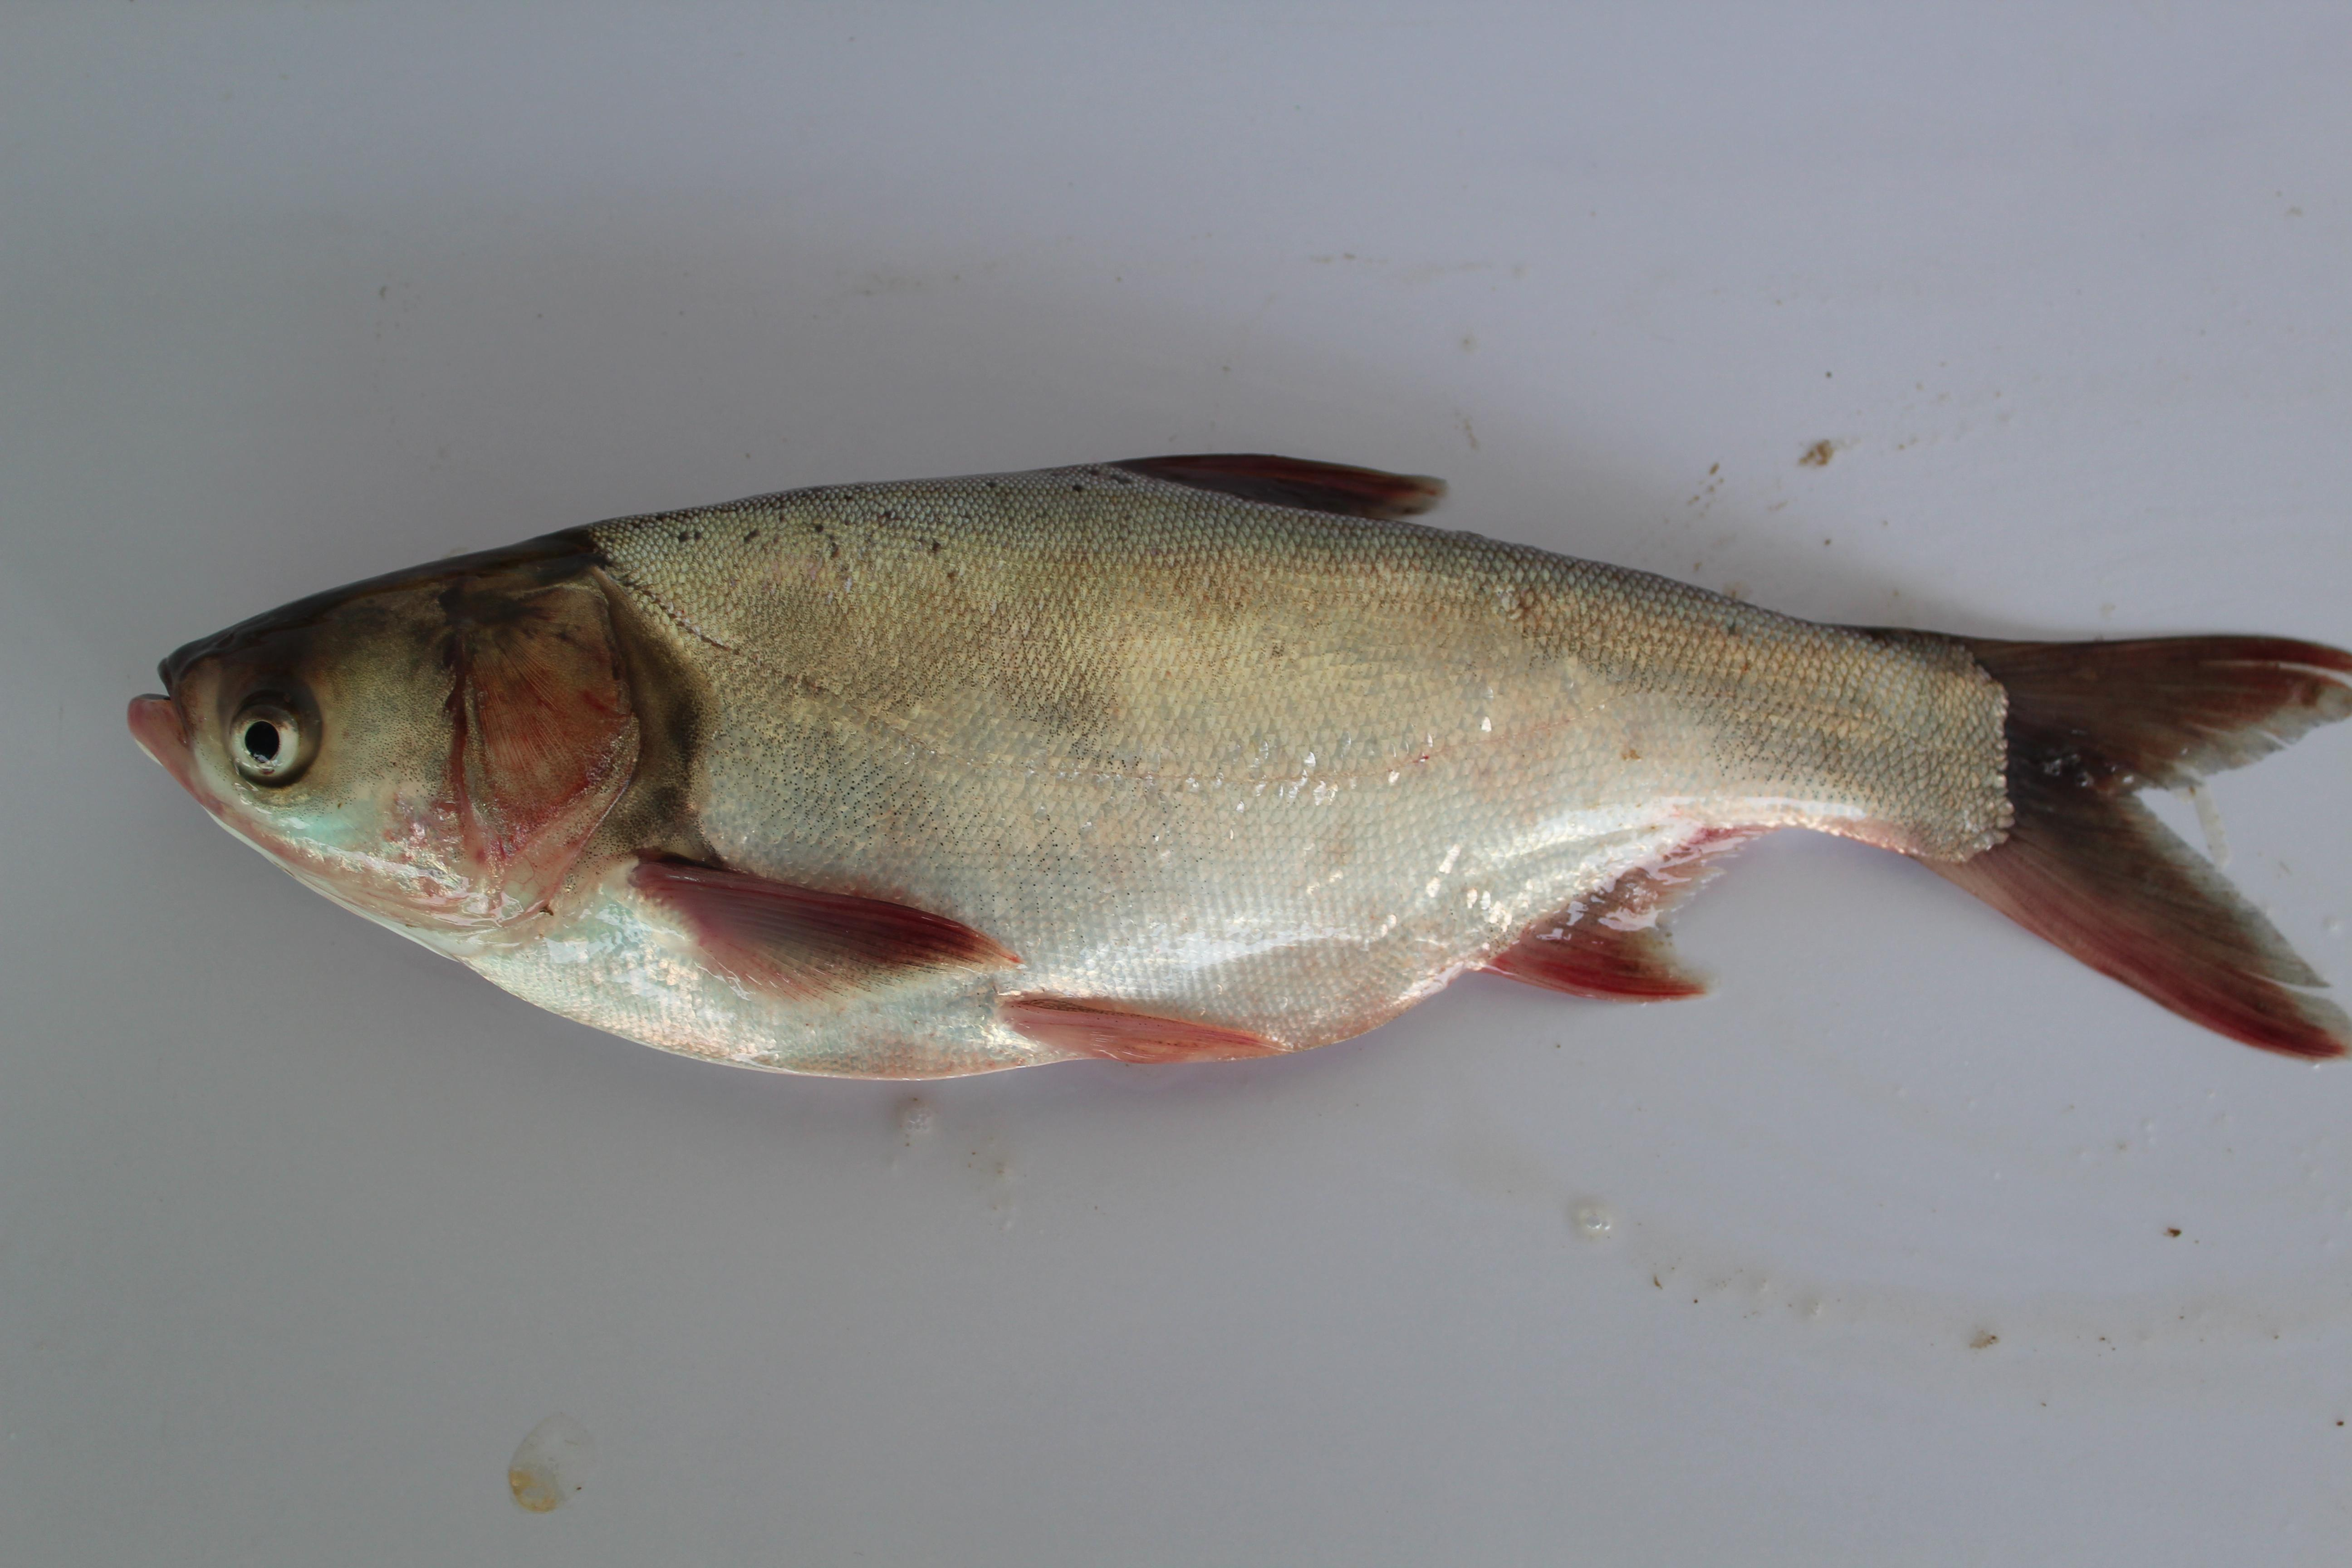Silver Carp: (138, 458, 2352, 1102)
